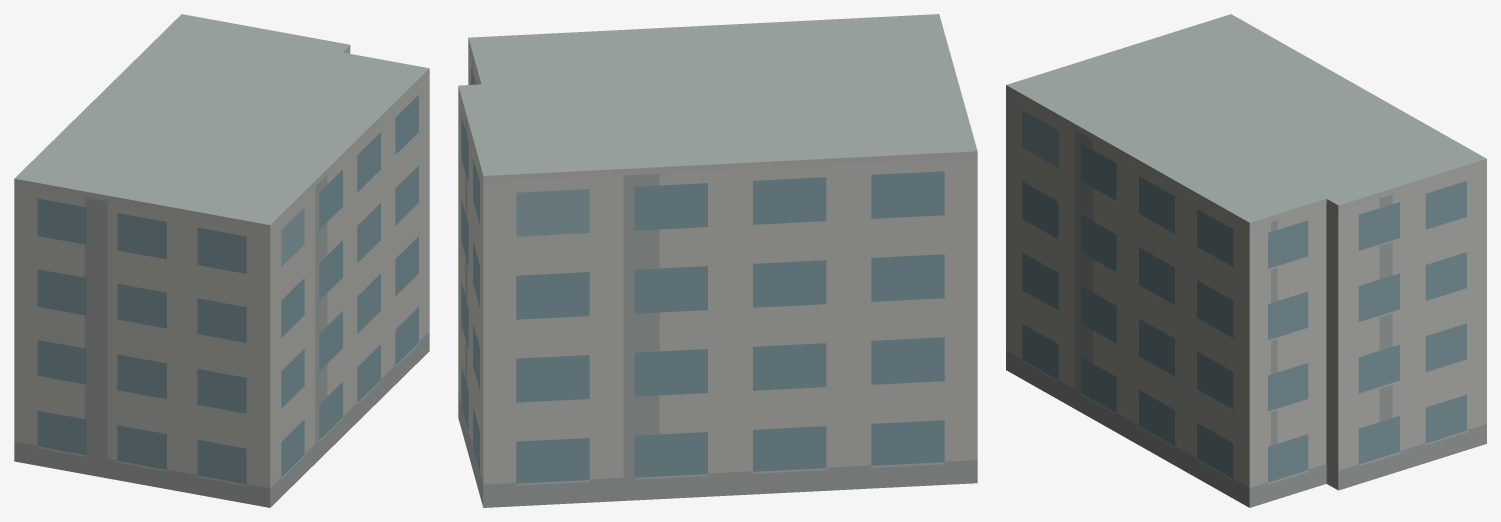
File: residential-7b9af28a-662a-4a28-800c-e0004d733fa4.glb
3 views of the same model, side by side, from view 1: azimuth 30°, elevation 25°; view 2: azimuth 150°, elevation 25°; view 3: azimuth 270°, elevation 25° (orthographic). The views are drawn at different scales.
Visible parts, largest first — view 1: residential-7b9af28a-662a-4a28-800c-e0004d733fa4.tmp; view 2: residential-7b9af28a-662a-4a28-800c-e0004d733fa4.tmp; view 3: residential-7b9af28a-662a-4a28-800c-e0004d733fa4.tmp.
Part boxes in pixels (<box>): residential-7b9af28a-662a-4a28-800c-e0004d733fa4.tmp: <box>14,14,429,507</box>; residential-7b9af28a-662a-4a28-800c-e0004d733fa4.tmp: <box>458,14,977,507</box>; residential-7b9af28a-662a-4a28-800c-e0004d733fa4.tmp: <box>1006,14,1486,507</box>.
Bounding box in the file's own units: 19.18 × 12.2 × 18.66.
